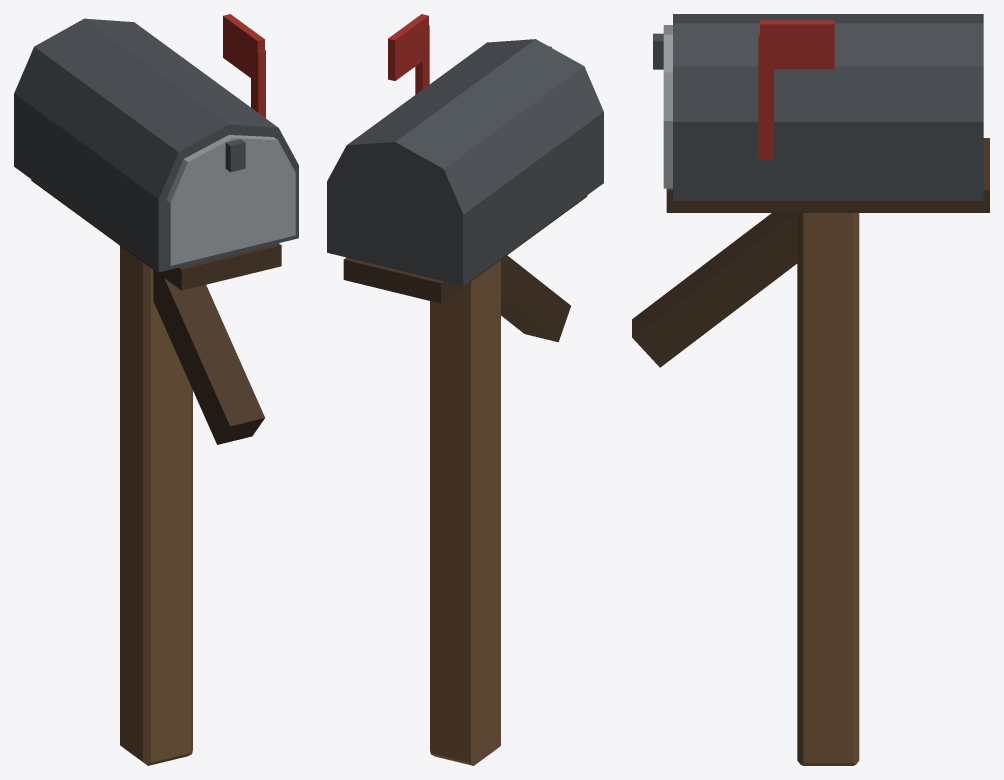
File: boite_lettres.glb
The picture shows the model from 3 angles, left to right: view 1: azimuth 30°, elevation 25°; view 2: azimuth 150°, elevation 25°; view 3: azimuth 270°, elevation 25°; orthographic projection. The views are drawn at different scales.
Visible parts, largest first — view 1: box, post, door, brace, plank, flag, flag_arm, latch; view 2: box, post, brace, plank, flag, flag_arm; view 3: box, post, brace, plank, flag, flag_arm, door.
Boxes of the visible parts, bbox=[...] form: box: bbox=[14, 18, 298, 272]; post: bbox=[120, 246, 192, 765]; door: bbox=[166, 135, 295, 265]; brace: bbox=[153, 270, 264, 444]; plank: bbox=[31, 179, 281, 290]; flag: bbox=[223, 14, 264, 77]; flag_arm: bbox=[251, 47, 265, 118]; latch: bbox=[225, 139, 245, 172]; box: bbox=[327, 39, 603, 285]; post: bbox=[430, 260, 500, 765]; brace: bbox=[501, 255, 570, 342]; plank: bbox=[343, 195, 587, 303]; flag: bbox=[388, 14, 428, 80]; flag_arm: bbox=[415, 25, 429, 94]; box: bbox=[673, 14, 983, 200]; post: bbox=[797, 213, 859, 765]; brace: bbox=[632, 213, 797, 367]; plank: bbox=[666, 138, 989, 212]; flag: bbox=[760, 20, 834, 69]; flag_arm: bbox=[758, 31, 773, 159]; door: bbox=[663, 25, 672, 188].
Size of the model in its own units: 0.2935 by 1.37 by 0.5757.
5 materials, 5 textured.
